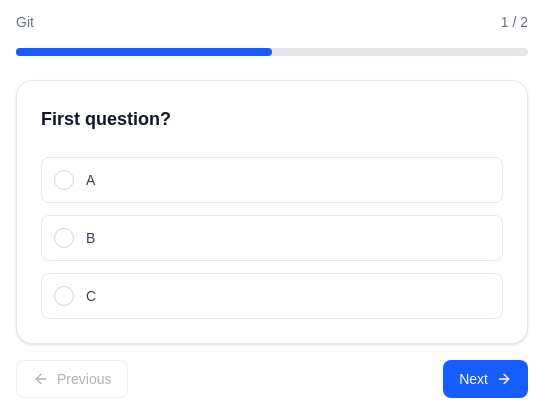
Scenario: QuizRunner › disables Submit until all questions are answered
Click the button "Next" at (486, 379), box [443,360,528,398]
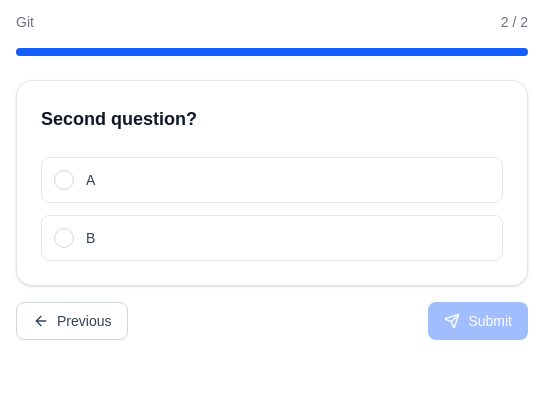
expect the button "Submit" is disabled: met, box [428,302,528,340]
